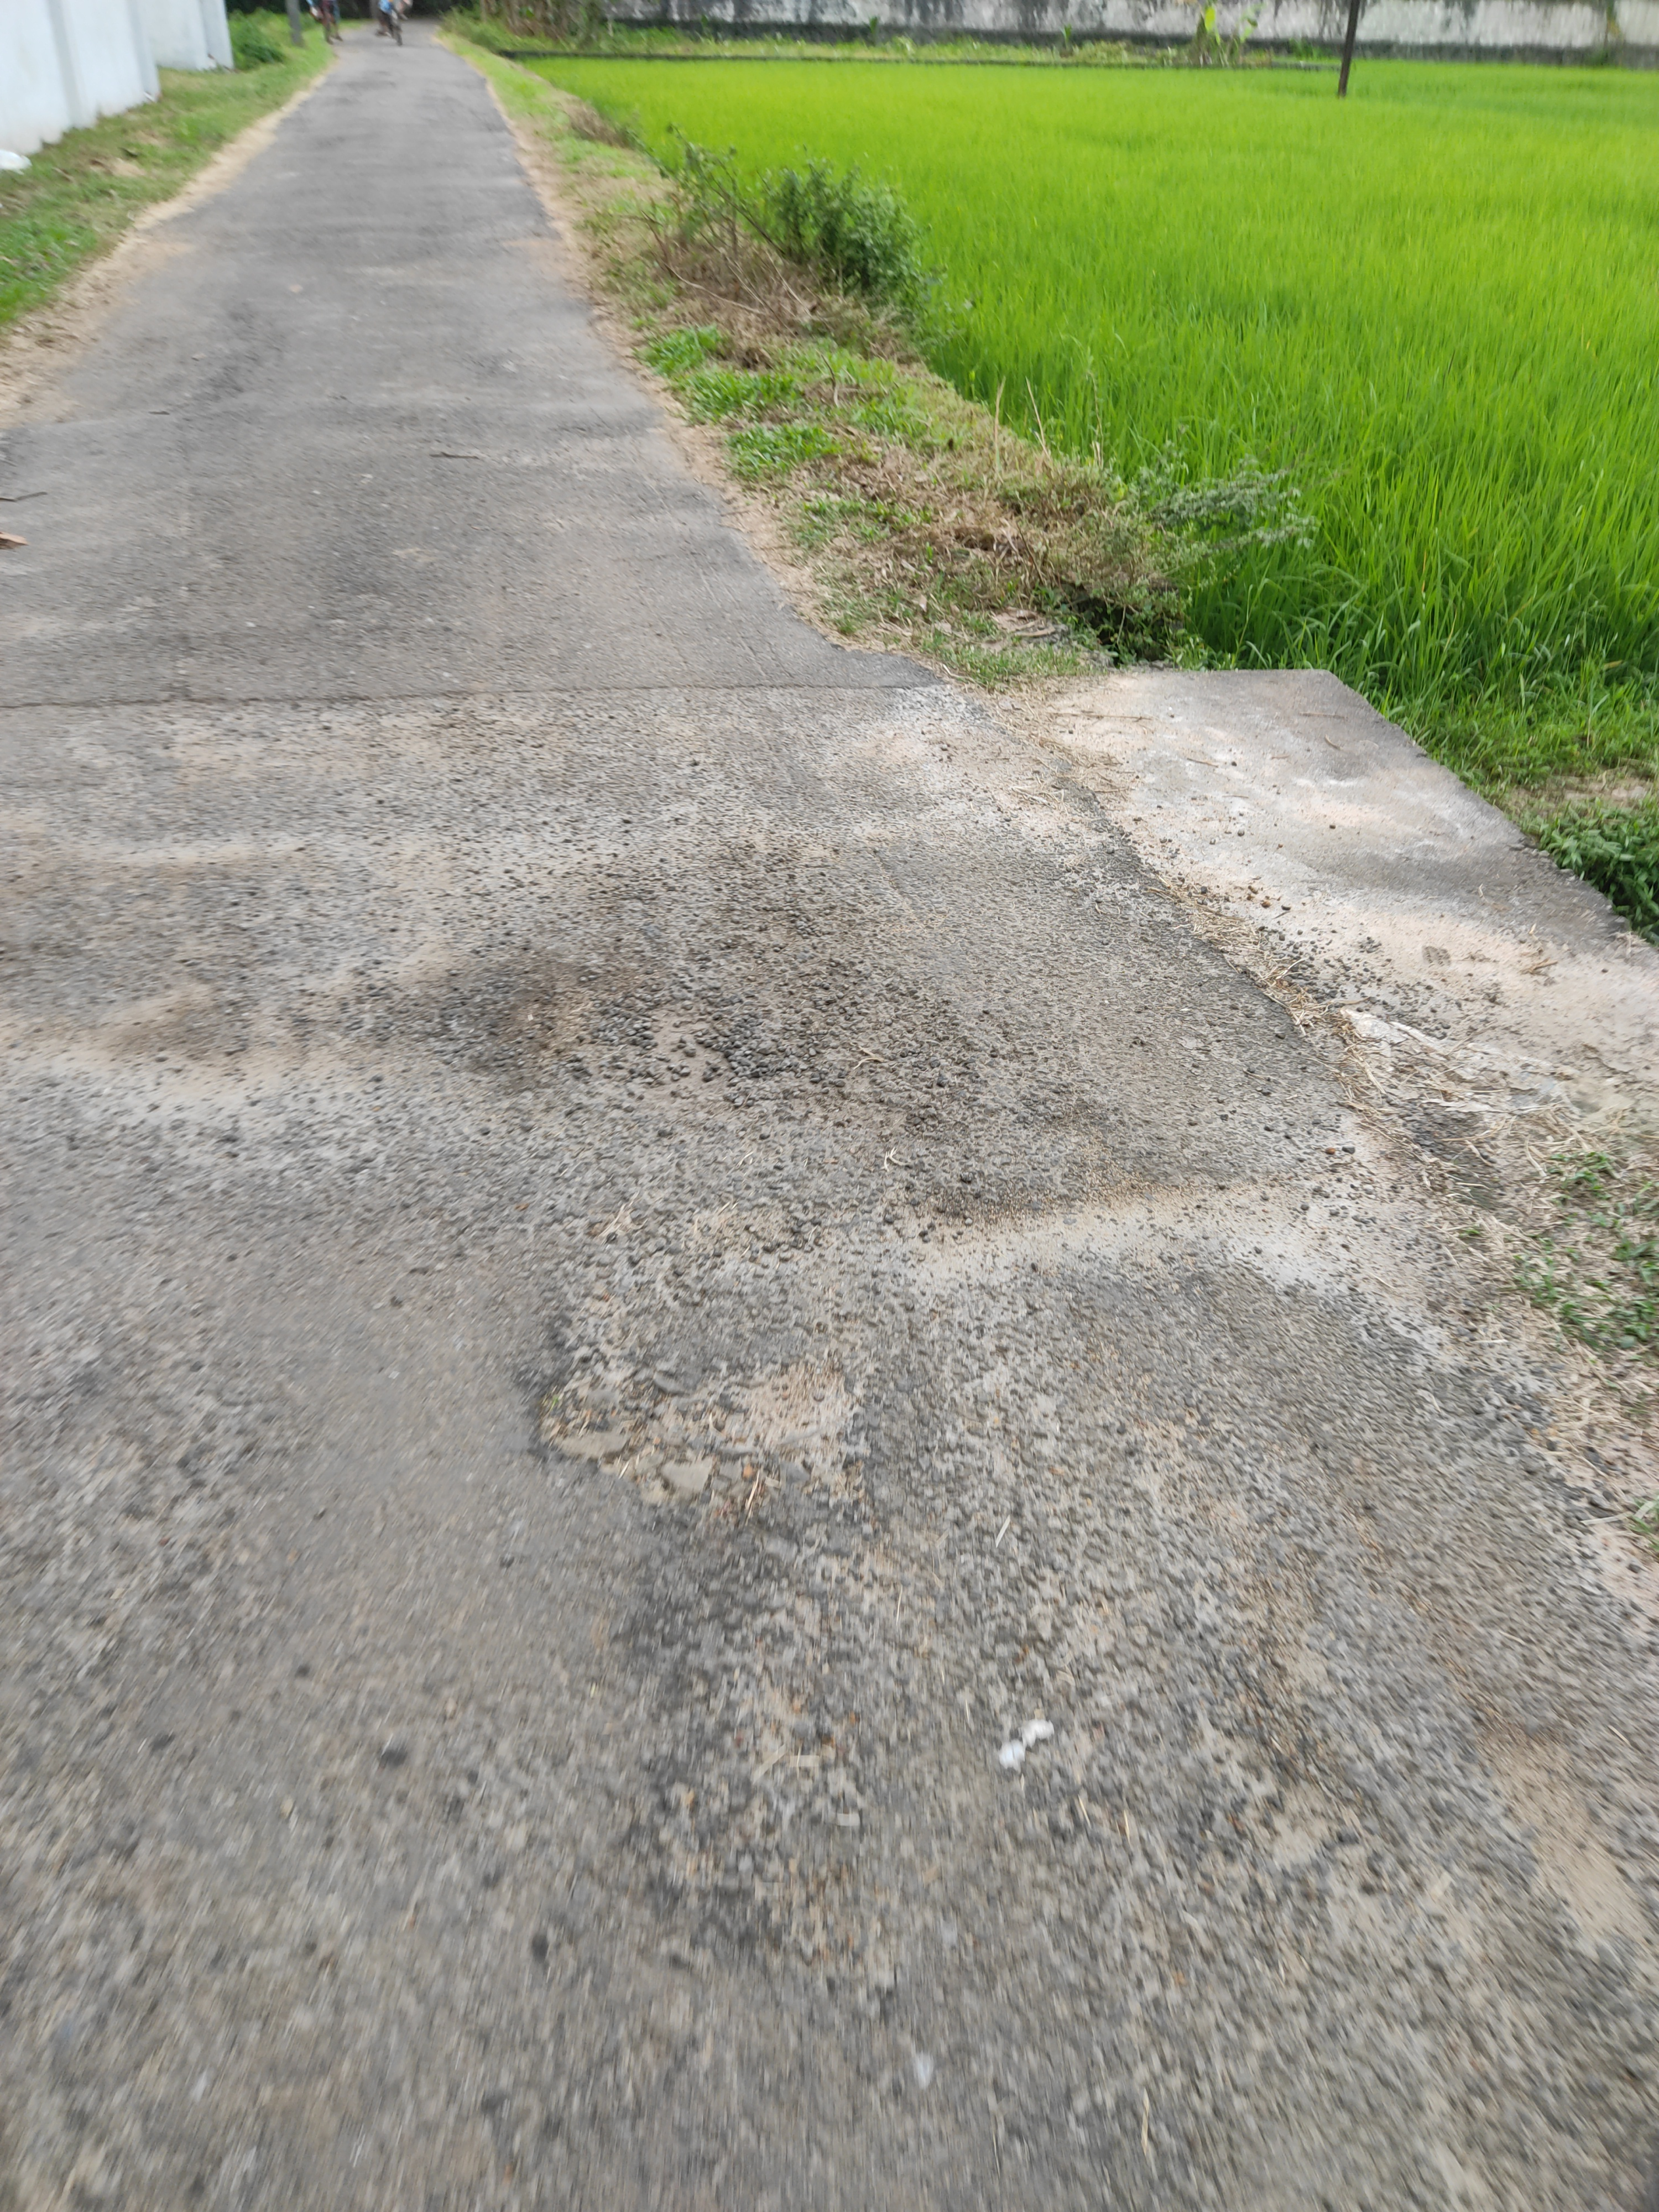potholes: (509, 1308, 842, 1519)
